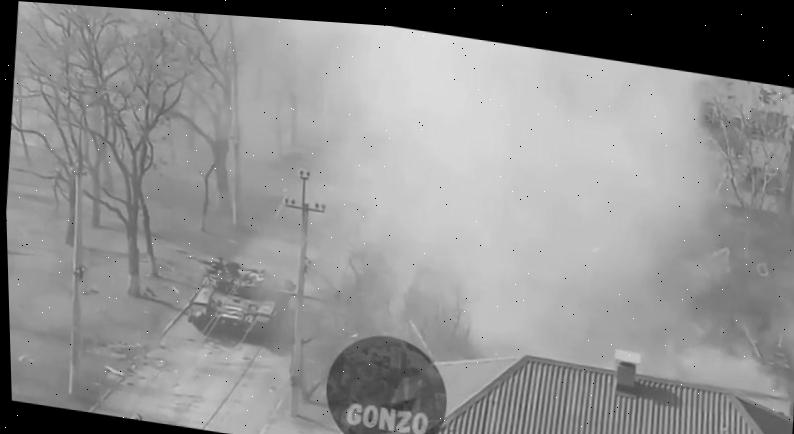tank: (185, 252, 337, 347)
